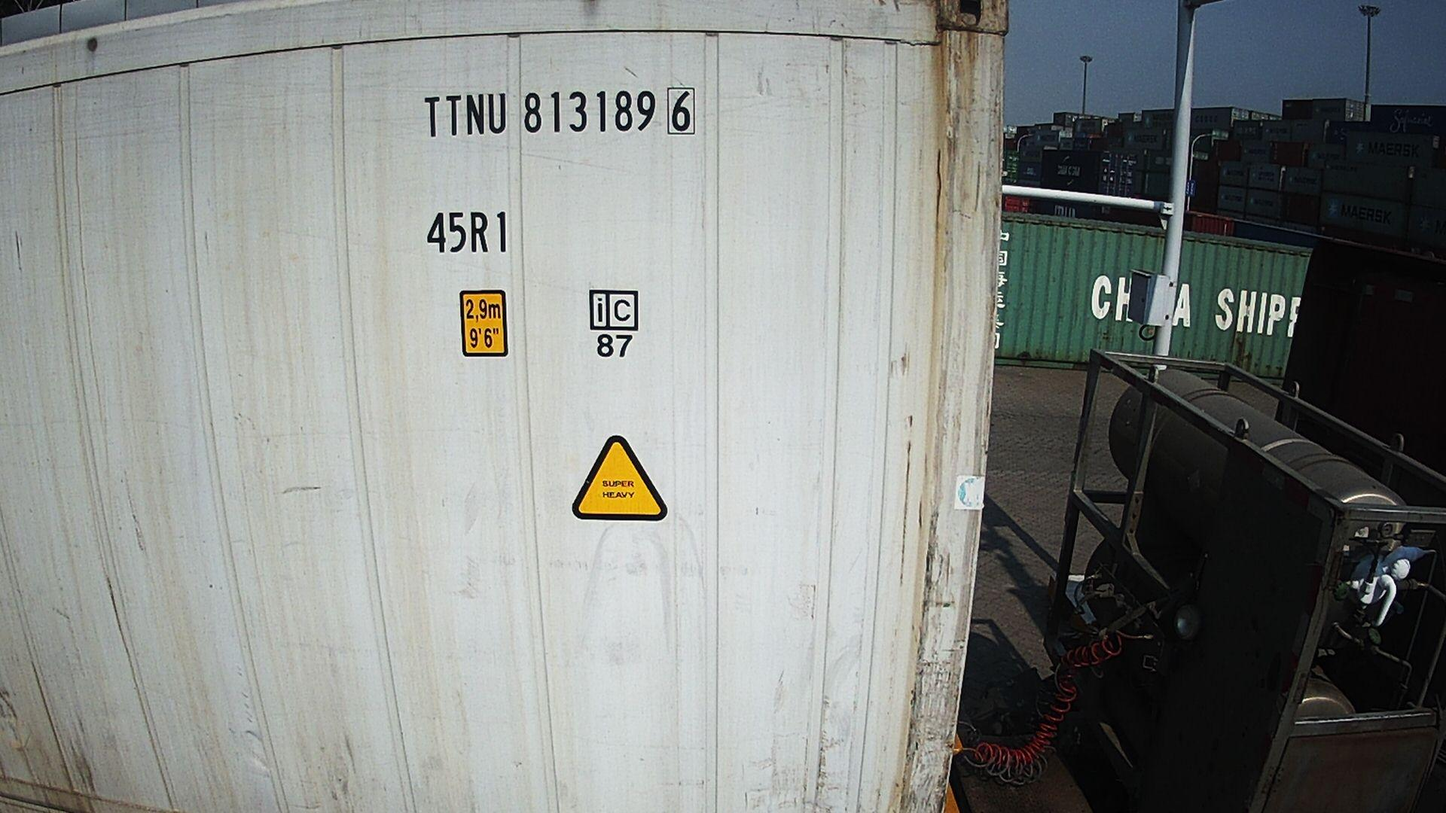container-numbers: (416, 86, 703, 142), (422, 207, 514, 257)
